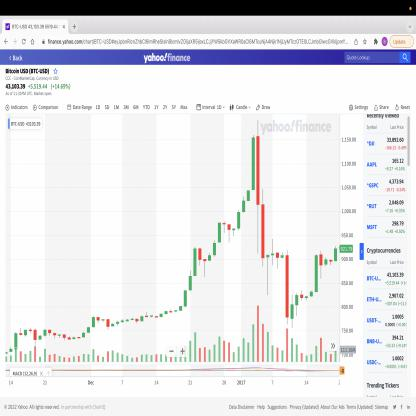Bullish: 3 White Soldiers: (183, 245, 198, 310)
Bullish: Hammer: (198, 244, 212, 280)
